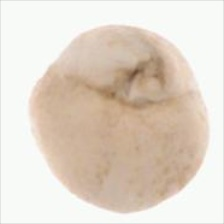L3: (109, 56, 170, 110)
L4: (29, 23, 209, 214)
